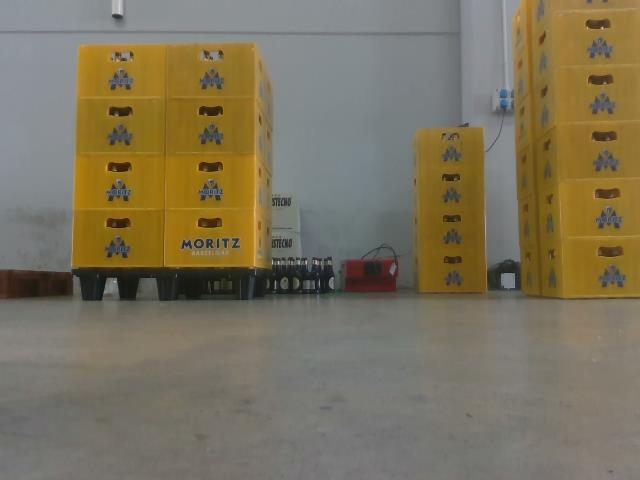block: (79, 276, 105, 304), (232, 276, 255, 304), (156, 279, 183, 301), (116, 276, 140, 300)
front: (74, 270, 260, 311)
hole pallet: (97, 276, 159, 300), (180, 276, 234, 301)
